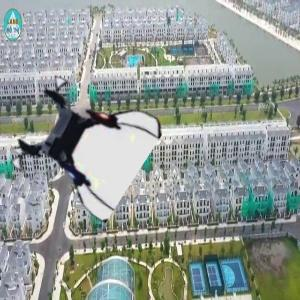drone: (16, 79, 146, 209)
